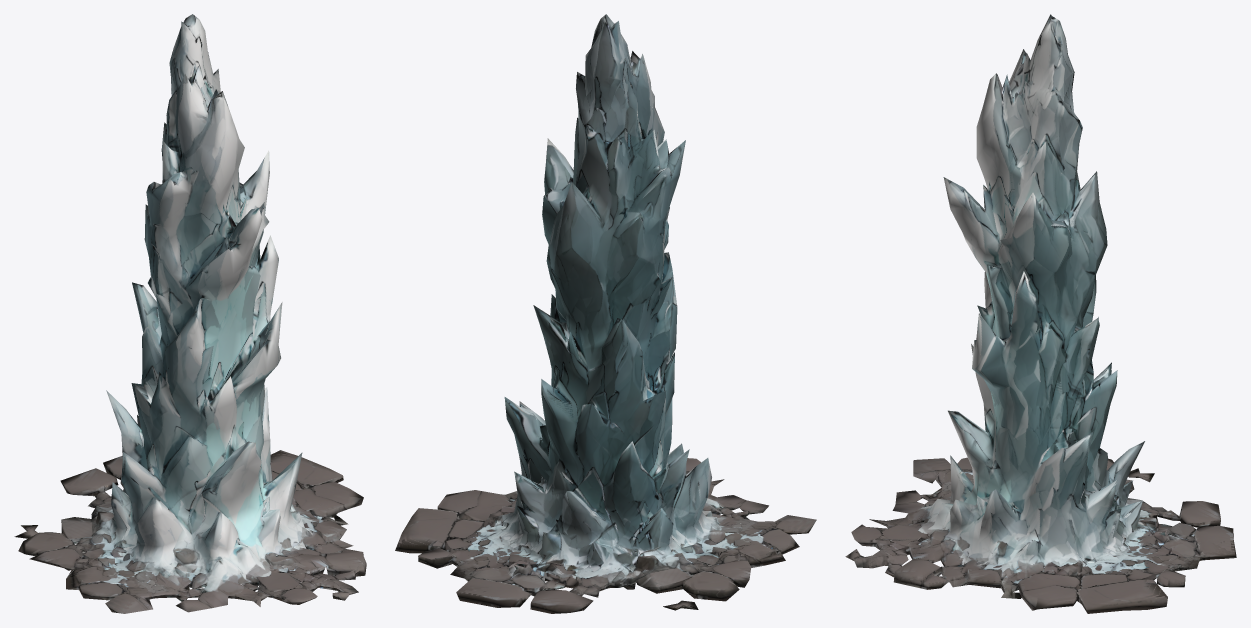
The model's file is PR_IcePillar_Boss.fbx.
The picture shows the model from 3 angles, left to right: view 1: azimuth 30°, elevation 25°; view 2: azimuth 150°, elevation 25°; view 3: azimuth 270°, elevation 25°; orthographic projection. The views are drawn at different scales.
Visible parts, largest first — view 1: texture_mapping; view 2: texture_mapping; view 3: texture_mapping.
Part boxes in pixels (x1,y1,x2,y2): texture_mapping: (14,14,366,613); texture_mapping: (395,14,816,613); texture_mapping: (845,14,1236,613).
Size of the model in its own units: 0.6303 by 0.6713 by 0.9879.
1 material, 1 textured.
